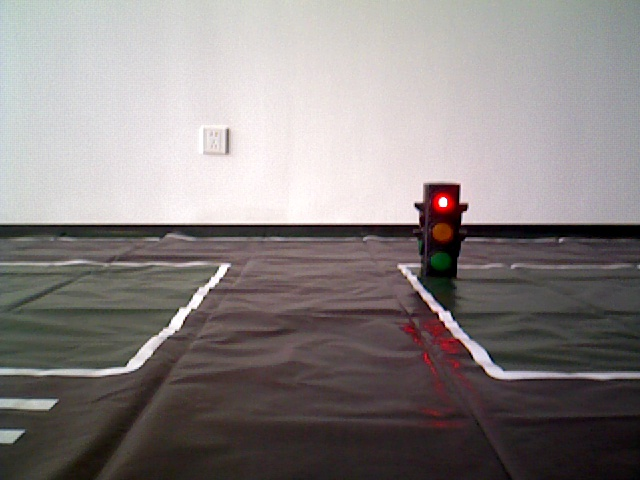red: (421, 184, 459, 275)
